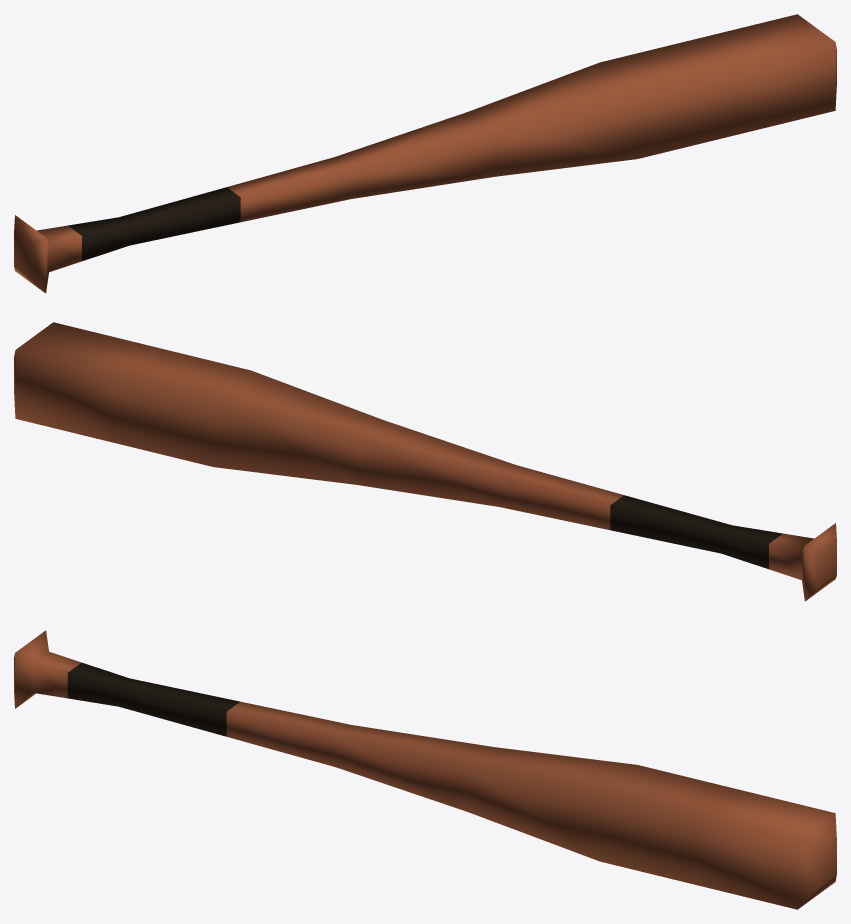
Rendered from baseball_bat.dae.
3 views of the same model, one above another, from view 1: azimuth 30°, elevation 25°; view 2: azimuth 150°, elevation 25°; view 3: azimuth 330°, elevation 25° (orthographic).
Visible parts, largest first — view 1: Cube; view 2: Cube; view 3: Cube.
Boxes of the visible parts, x1,y1,x2,y2 form: Cube: (14, 14, 836, 293); Cube: (14, 322, 836, 601); Cube: (14, 630, 836, 909).
Bounding box in the file's own units: 9.67 × 0.7901 × 0.7901.
